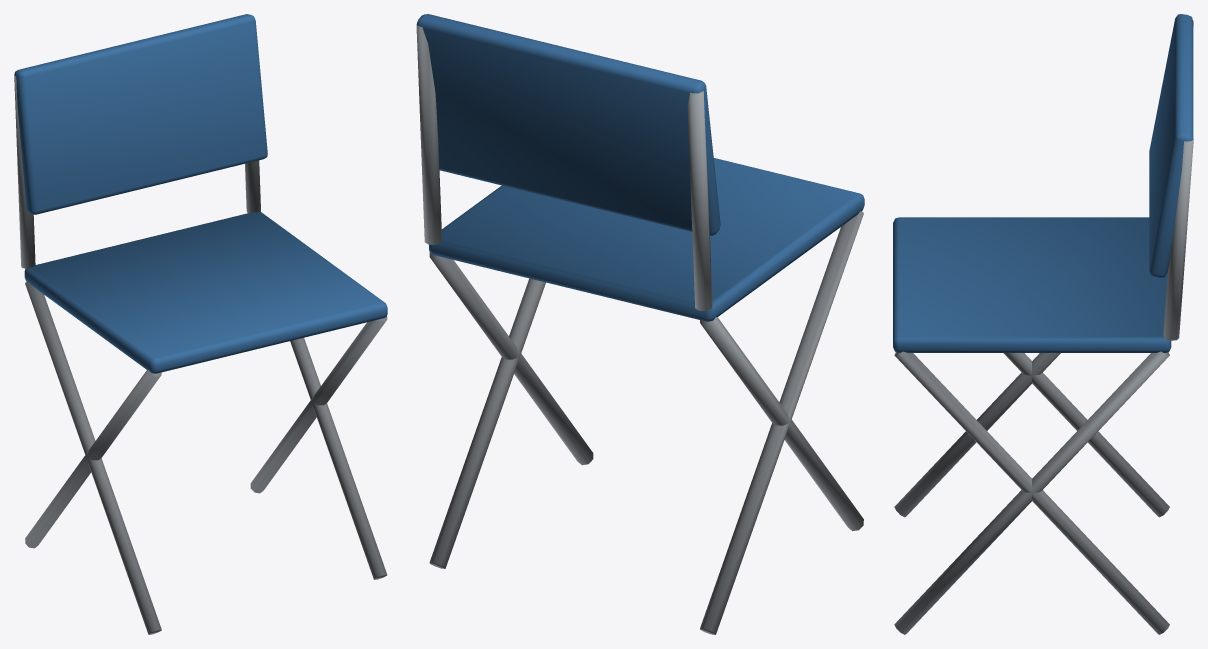
File: prop_silla.glb
3 renders of one model, left to right at view 1: azimuth 30°, elevation 25°; view 2: azimuth 150°, elevation 25°; view 3: azimuth 270°, elevation 25°, orthographic. The views are drawn at different scales.
Visible parts, largest first — view 1: prop_silla; view 2: prop_silla; view 3: prop_silla.
Part boxes in pixels (x1=…): prop_silla: x1=14, y1=14, x2=387, y2=634; prop_silla: x1=416, y1=14, x2=864, y2=634; prop_silla: x1=893, y1=14, x2=1193, y2=634.
Size of the model in its own units: 0.402 by 0.7563 by 0.411.
